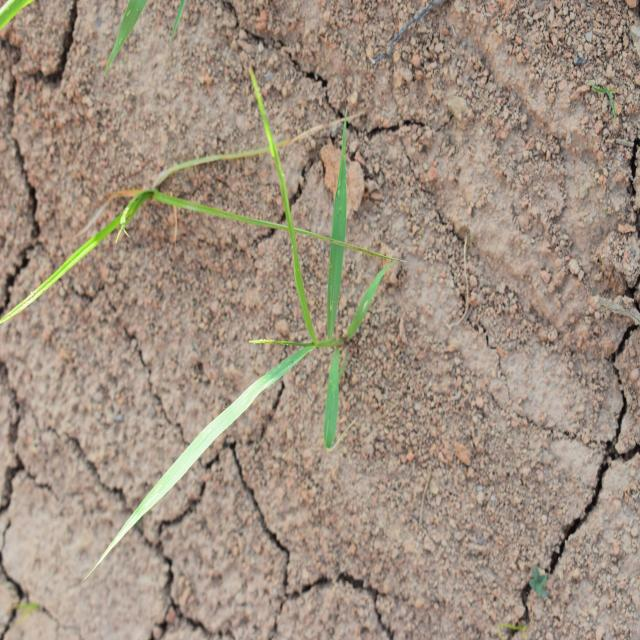green_foxtail: (136, 158, 363, 509)
